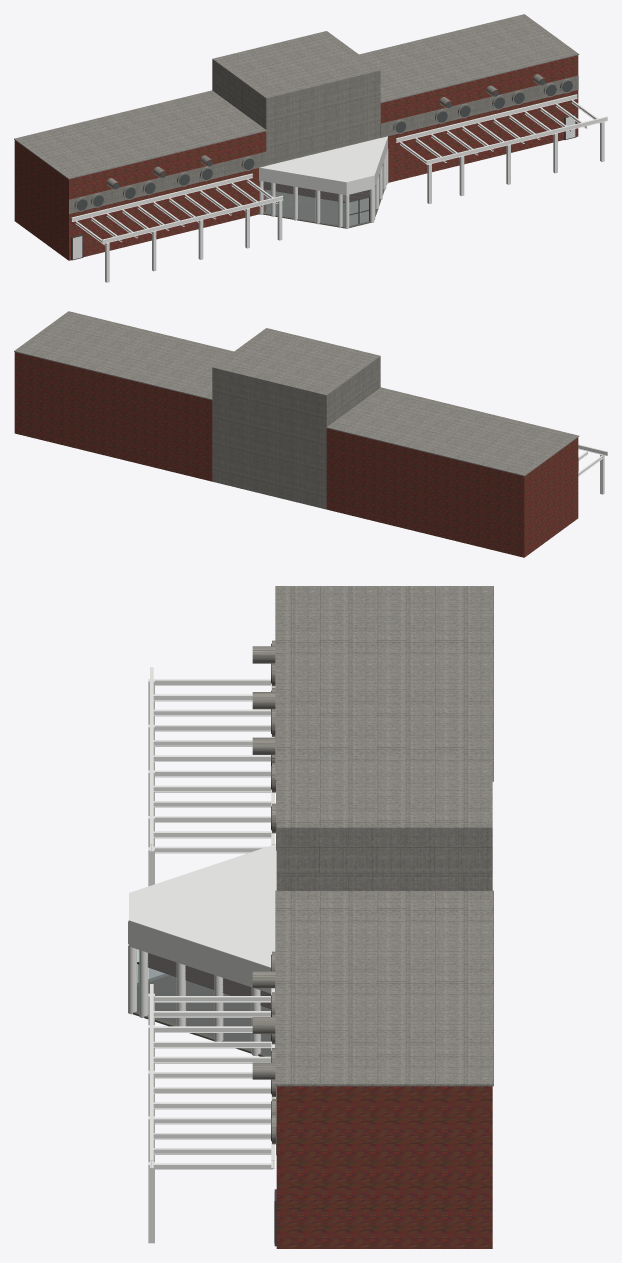
File: gimnasio.glb
3 views of the same model, one above another, from view 1: azimuth 30°, elevation 25°; view 2: azimuth 150°, elevation 25°; view 3: azimuth 270°, elevation 25° (orthographic). The views are drawn at different scales.
Parts seen in each view (by area): view 1: Edificio; view 2: Edificio; view 3: Edificio.
Part boxes in pixels (bbox=[...]): Edificio: bbox=[14, 14, 607, 282]; Edificio: bbox=[14, 311, 607, 557]; Edificio: bbox=[128, 586, 493, 1248].
Size of the model in its own units: 49.1 by 10.5 by 15.24.
Materials: 8 (2 with a texture image).
